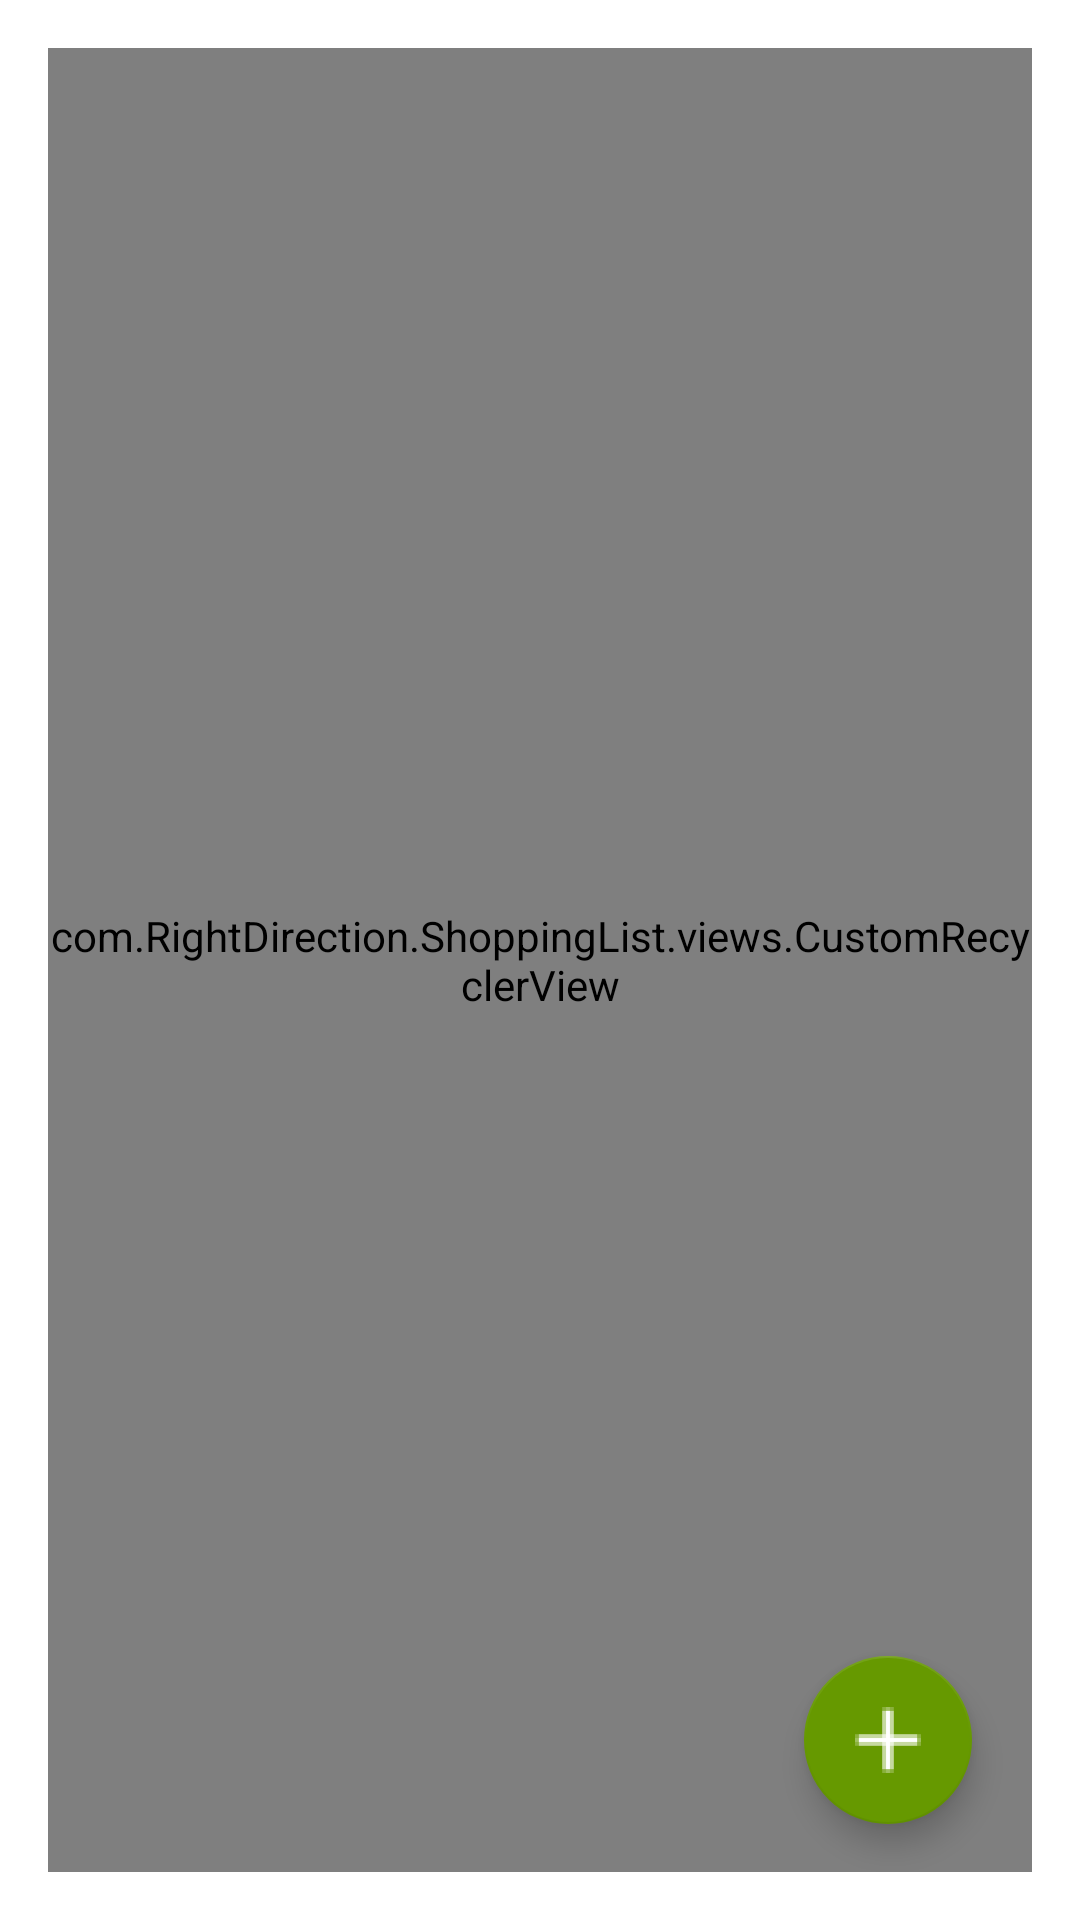

Icons on this 1080px×1920px Android screen, each with the point to tap as (x=x, y=y):
add: (x=864, y=1716)
